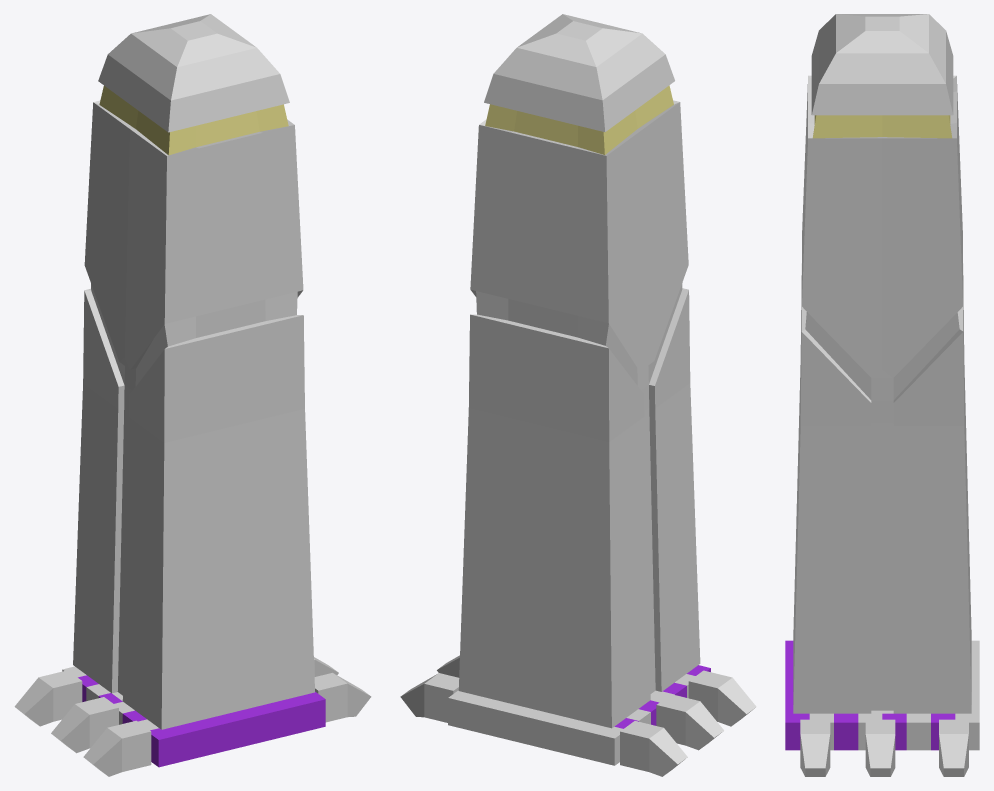
File: Tower1.glb
3 views of the same model, side by side, from view 1: azimuth 30°, elevation 25°; view 2: azimuth 150°, elevation 25°; view 3: azimuth 270°, elevation 25° (orthographic).
Parts seen in each view (by area): view 1: Cube; view 2: Cube; view 3: Cube.
Boxes of the visible parts, bbox=[...] form: Cube: bbox=[14, 14, 371, 776]; Cube: bbox=[400, 14, 756, 776]; Cube: bbox=[785, 14, 979, 776].
Bounding box in the file's own units: 1.97 × 4.66 × 1.18.
